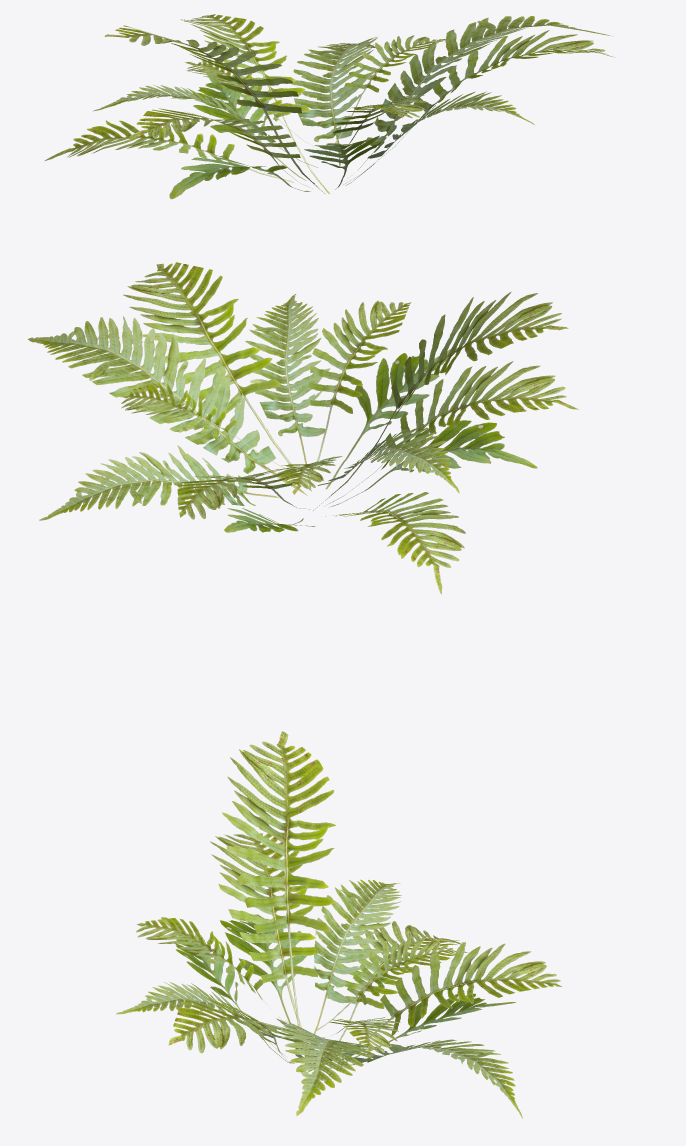
The model's file is Plant (1).fbx.
The picture shows the model from 3 angles, top to bottom: view 1: azimuth 30°, elevation 25°; view 2: azimuth 150°, elevation 25°; view 3: azimuth 270°, elevation 25°; orthographic projection. The views are drawn at different scales.
Visible parts, largest first — view 1: Plant1_14; view 2: Plant1_14; view 3: Plant1_14.
Boxes of the visible parts, x1=… form: Plant1_14: x1=44, y1=14, x2=615, y2=199; Plant1_14: x1=27, y1=262, x2=578, y2=594; Plant1_14: x1=116, y1=731, x2=561, y2=1118.
Size of the model in its own units: 8.85 by 3.59 by 8.52.
